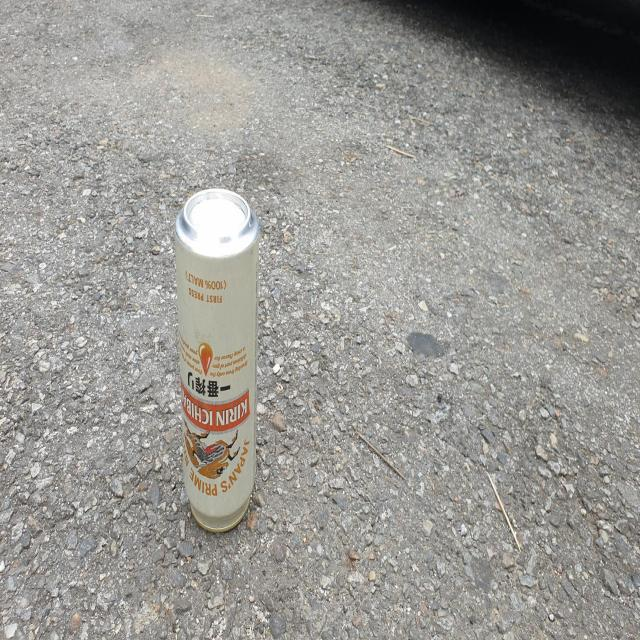can: (174, 188, 259, 532)
